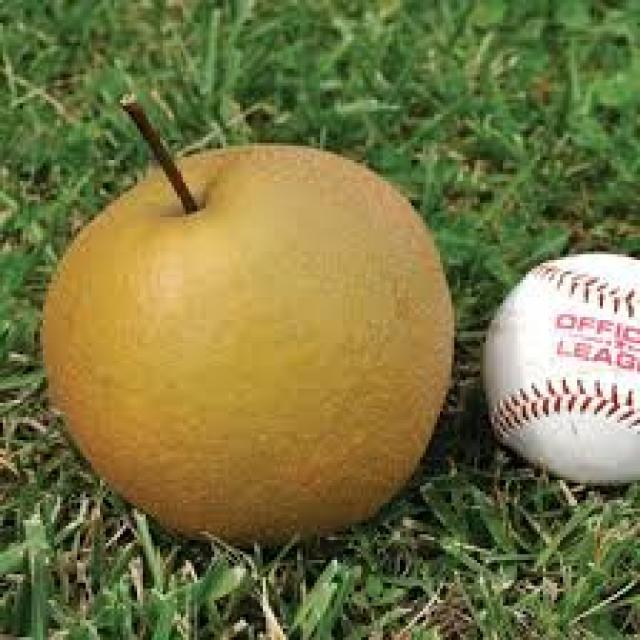Pear: (46, 96, 454, 544)
